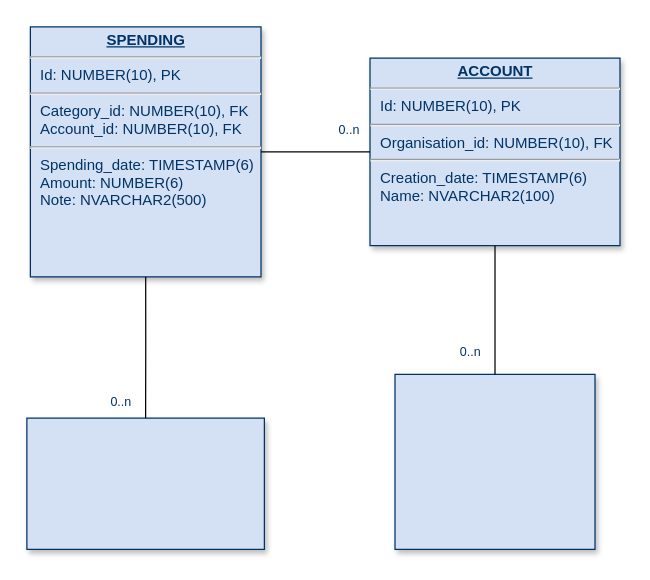
This 650x580 diagram has some shape labels left out. Here are the shapes that lost their labels. From the top down, the centre of each, then its label:
At (495,463): "ORGANISATION Id: NUMBER(10), PK Name: NVARCHAR2(100)".
At (146,485): "CATEGORY Id: NUMBER(10), PK Creation_date: TIMESTAMP(6) Name: NVARCHAR2(100)".
